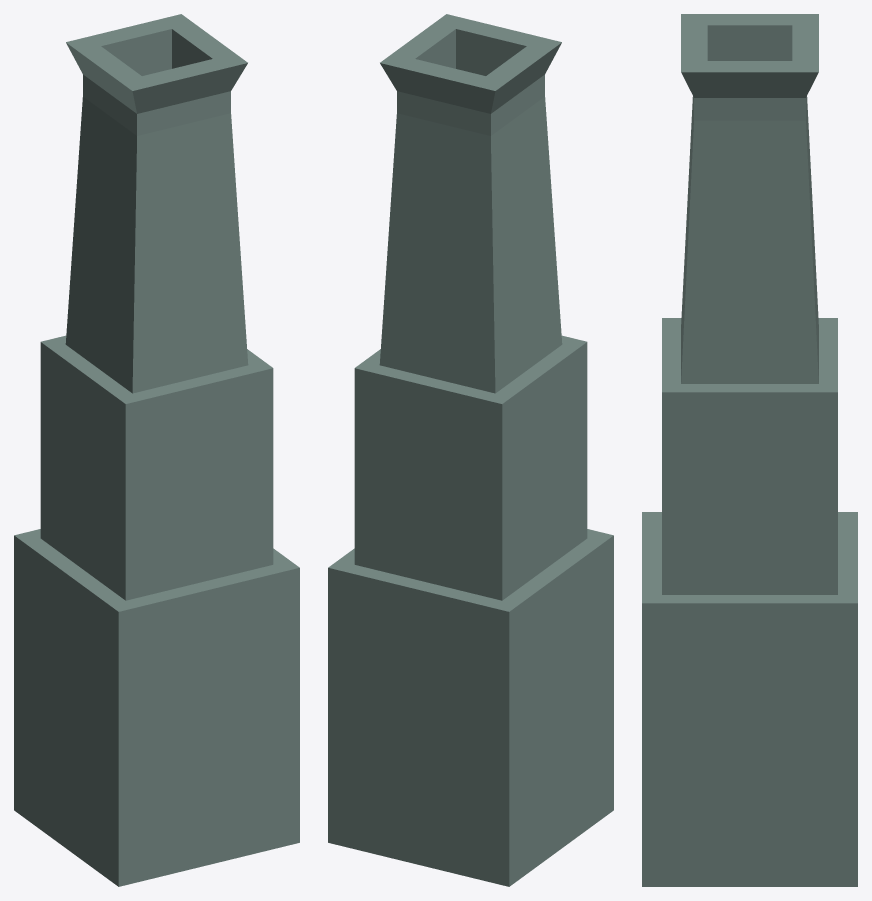
The model's file is BigSkorsten2.fbx.
3 renders of one model, left to right at view 1: azimuth 30°, elevation 25°; view 2: azimuth 150°, elevation 25°; view 3: azimuth 270°, elevation 25°, orthographic. The views are drawn at different scales.
Parts seen in each view (by area): view 1: Skorsten 2; view 2: Skorsten 2; view 3: Skorsten 2.
Part boxes in pixels (x1,y1,x2,y2): Skorsten 2: (14,14,299,886); Skorsten 2: (328,14,613,886); Skorsten 2: (642,14,857,886).
Size of the model in its own units: 251 by 1024 by 251.
